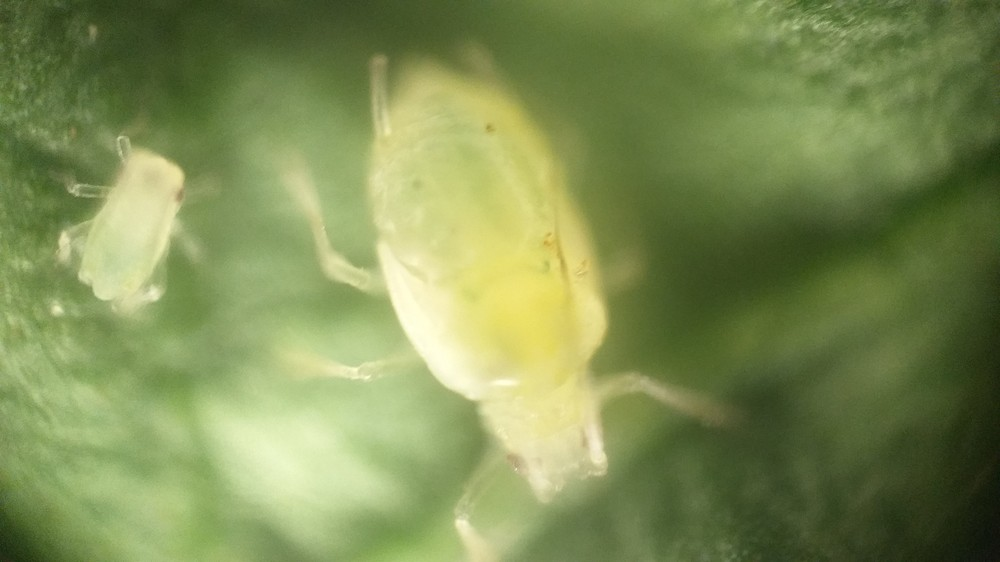Pulgon: (260, 33, 790, 558), (54, 127, 226, 320)
